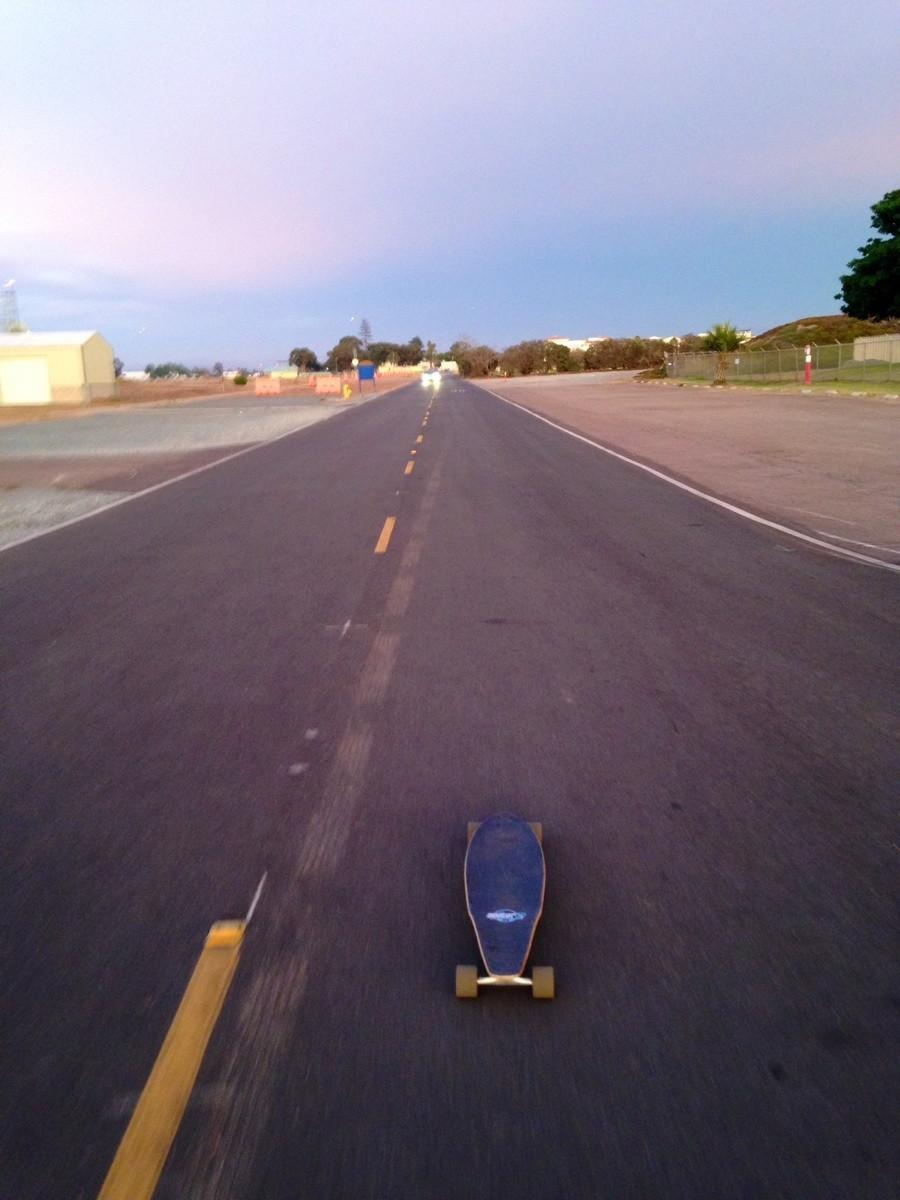skate: (447, 805, 580, 1011)
